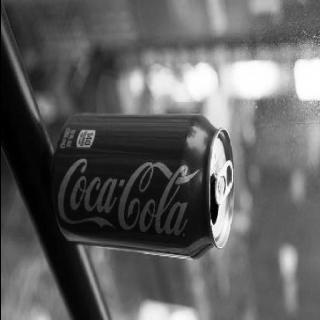alumunium_can: (49, 112, 236, 258)
